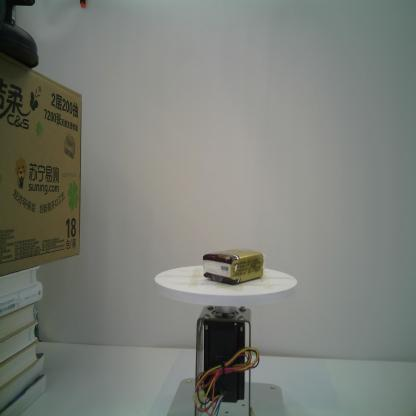Tissue: (202, 248, 265, 286)
